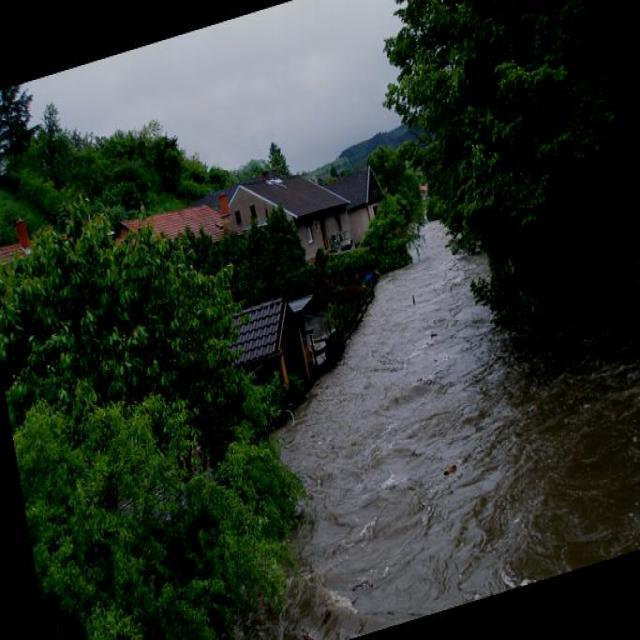flood: (171, 155, 639, 639)
